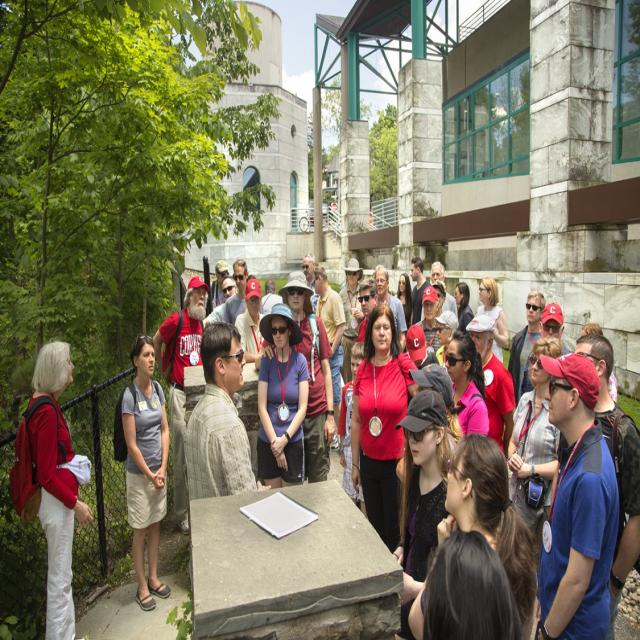body: (407, 431, 541, 640), (550, 330, 640, 639), (5, 336, 96, 640), (531, 347, 623, 639), (349, 302, 422, 556), (258, 266, 337, 485), (182, 318, 273, 502), (151, 272, 211, 538), (506, 336, 566, 602), (120, 332, 172, 613), (392, 388, 450, 639), (254, 300, 311, 488), (464, 315, 517, 463), (310, 266, 347, 452), (336, 340, 370, 525), (395, 361, 465, 447), (519, 301, 575, 406), (442, 327, 492, 440), (507, 289, 548, 406), (338, 257, 366, 386), (372, 264, 408, 356), (233, 278, 271, 364), (473, 276, 509, 364), (223, 259, 265, 326), (420, 260, 460, 330), (413, 284, 449, 358), (204, 274, 238, 331), (393, 271, 414, 355), (404, 322, 440, 370), (355, 276, 379, 342), (410, 256, 432, 327), (434, 310, 459, 367), (301, 251, 321, 314), (453, 282, 475, 336), (210, 258, 230, 309), (259, 277, 283, 315), (431, 279, 448, 323), (578, 322, 605, 346), (606, 368, 618, 407), (480, 158, 497, 182), (338, 282, 347, 296), (245, 273, 257, 282), (370, 210, 374, 232)
